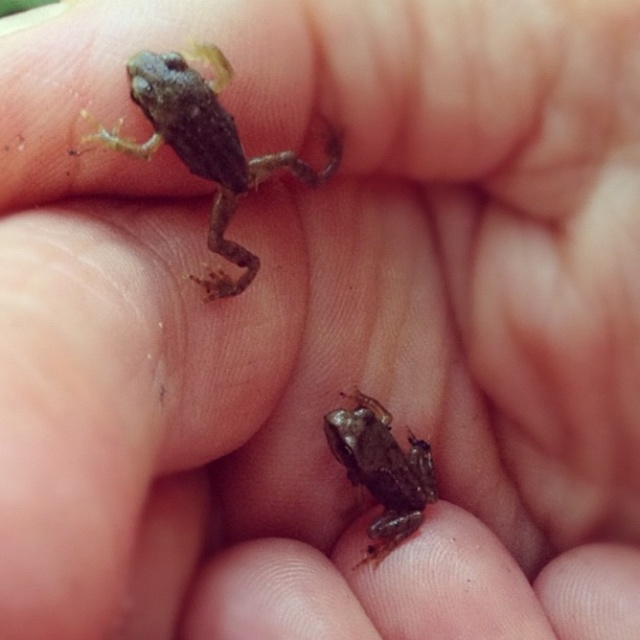Frog: (74, 35, 347, 306), (321, 383, 440, 570)
